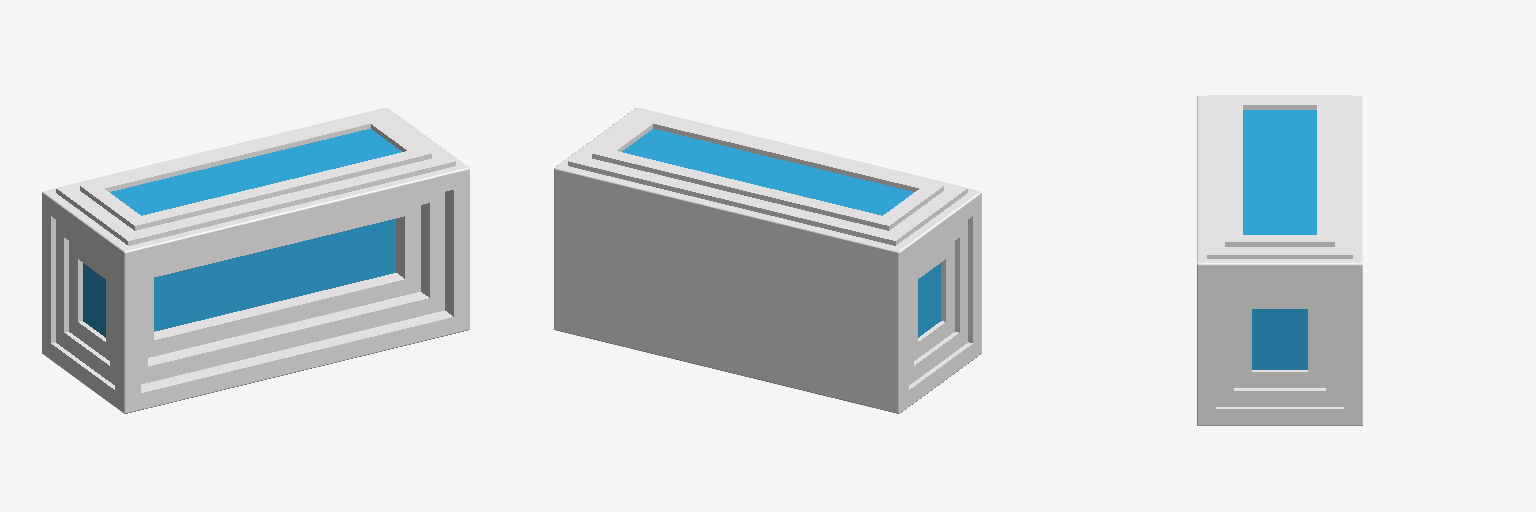
The model's file is 桌上装饰2.obj.
3 renders of one model, left to right at view 1: azimuth 30°, elevation 25°; view 2: azimuth 150°, elevation 25°; view 3: azimuth 270°, elevation 25°, orthographic.
Visible parts, largest first — view 1: 装饰物; view 2: 装饰物; view 3: 装饰物.
Part boxes in pixels (x1,y1,x2,y2): 装饰物: (42,108,469,413); 装饰物: (554,108,981,413); 装饰物: (1197,95,1362,425).
Size of the model in its own units: 190 by 90.39 by 79.2.